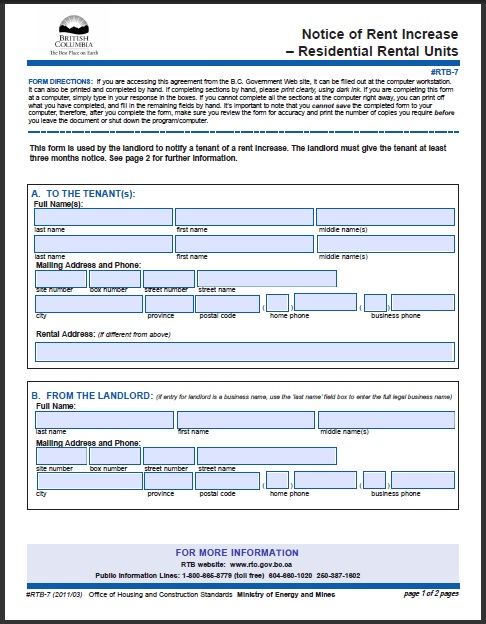textbox: (32, 340, 457, 364), (174, 203, 315, 231), (315, 204, 457, 230), (31, 232, 175, 257), (196, 443, 340, 468), (314, 230, 456, 255), (196, 265, 338, 289), (174, 231, 315, 255), (316, 407, 457, 431), (32, 408, 177, 431), (31, 205, 175, 228), (176, 408, 317, 431), (32, 291, 145, 316), (34, 468, 146, 493), (385, 466, 458, 493), (190, 468, 263, 493), (288, 468, 360, 493), (192, 291, 263, 316), (291, 289, 358, 314), (388, 289, 457, 313), (143, 290, 196, 317), (87, 443, 142, 469), (88, 266, 142, 292), (143, 443, 198, 468), (141, 468, 197, 492), (34, 445, 89, 468), (142, 267, 196, 290), (33, 268, 88, 290), (260, 468, 292, 494), (358, 467, 390, 493), (263, 289, 291, 316), (362, 290, 390, 314)
